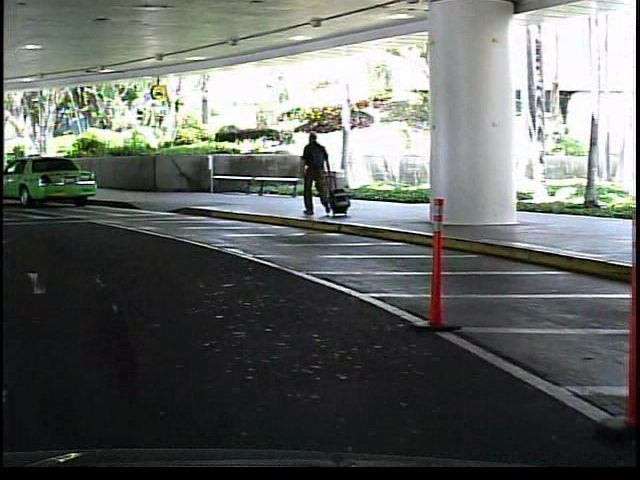person: (293, 125, 333, 223)
